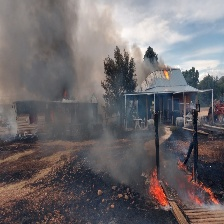fire: (179, 158, 220, 207), (146, 174, 173, 213), (162, 69, 173, 82)
smoke: (1, 1, 172, 166)
